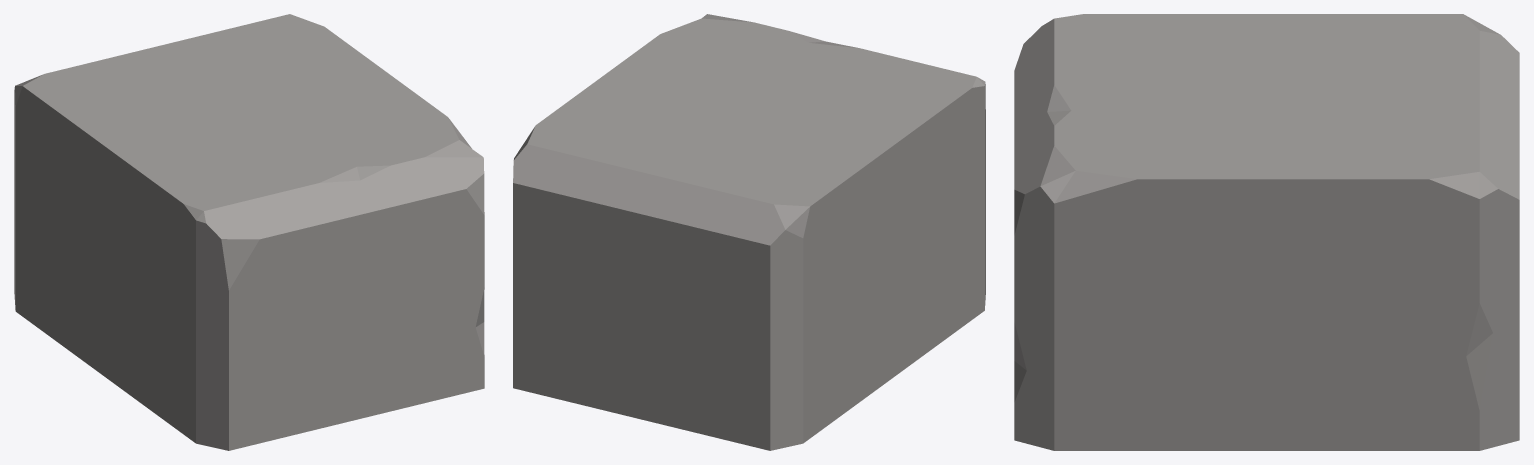
File: SM_Prop_Block_01.fbx
The picture shows the model from 3 angles, left to right: view 1: azimuth 30°, elevation 25°; view 2: azimuth 150°, elevation 25°; view 3: azimuth 270°, elevation 25°; orthographic projection. The views are drawn at different scales.
Visible parts, largest first — view 1: SM_Prop_Block_01; view 2: SM_Prop_Block_01; view 3: SM_Prop_Block_01.
Part boxes in pixels (x1,y1,x2,y2): SM_Prop_Block_01: (14, 14, 484, 450); SM_Prop_Block_01: (513, 14, 985, 450); SM_Prop_Block_01: (1014, 14, 1519, 450).
Bounding box in the file's own units: 192 × 147 × 248.
